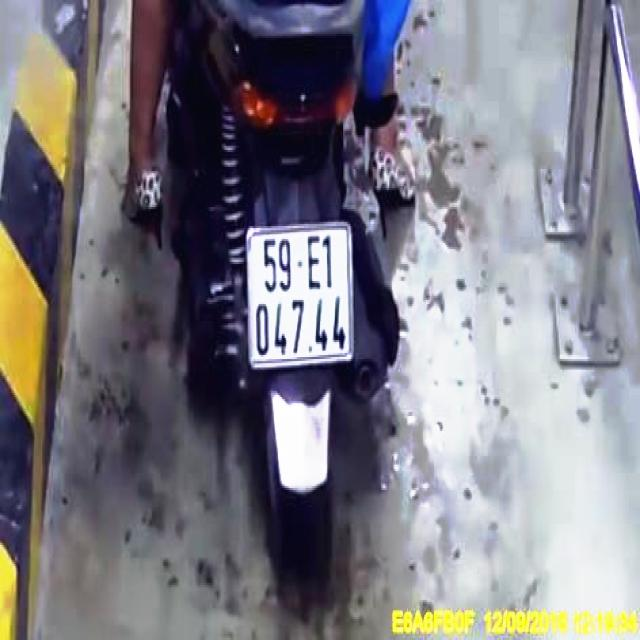license_plate: (250, 228, 353, 366)
